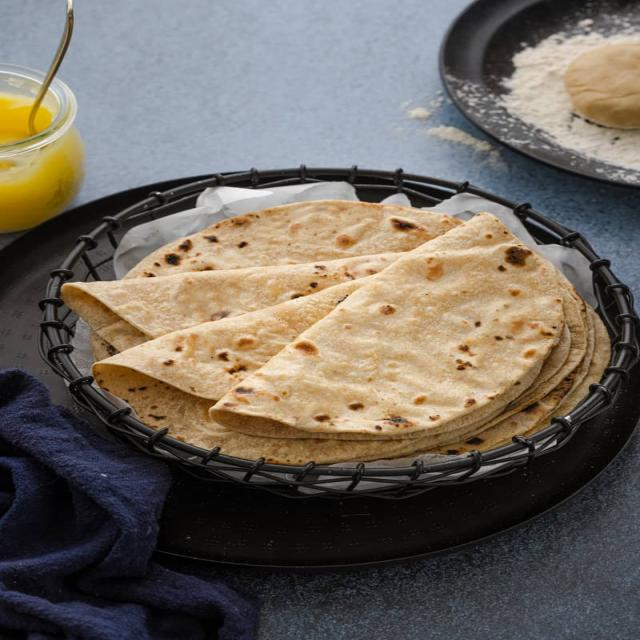chapathi: (216, 208, 588, 450), (54, 285, 355, 434), (35, 254, 394, 316)
